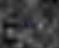five: (26, 19, 32, 28)
four: (18, 19, 24, 27)
two: (33, 20, 39, 28)
